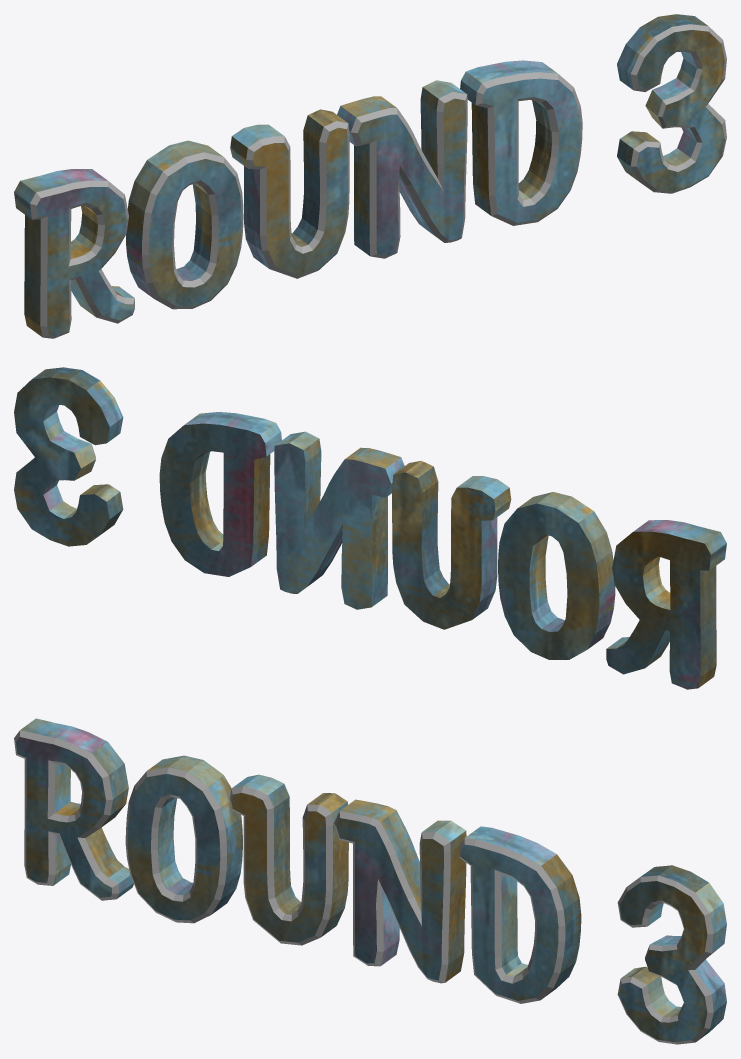
The model's file is Str_Sign_R3_Banner_Art.fbx.
3 renders of one model, top to bottom at view 1: azimuth 30°, elevation 25°; view 2: azimuth 150°, elevation 25°; view 3: azimuth 330°, elevation 25°, orthographic.
Visible parts, largest first — view 1: Str_Sign_R3_Banner; view 2: Str_Sign_R3_Banner; view 3: Str_Sign_R3_Banner.
Part boxes in pixels (x1,y1,x2,y2): Str_Sign_R3_Banner: [14, 14, 726, 338]; Str_Sign_R3_Banner: [14, 367, 726, 689]; Str_Sign_R3_Banner: [14, 718, 726, 1044].
Size of the model in its own units: 876 by 200 by 40.02.
